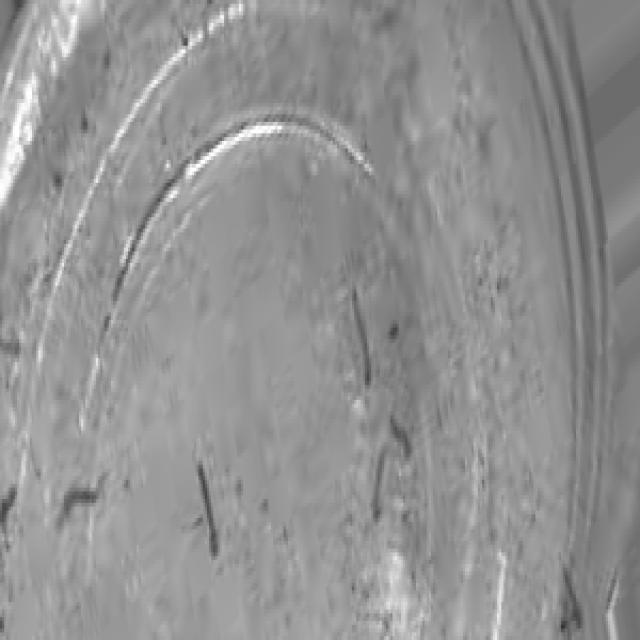larvas: (350, 282, 375, 387), (59, 468, 109, 520), (197, 465, 222, 559), (558, 557, 584, 632), (369, 445, 393, 525), (388, 409, 414, 463), (0, 486, 17, 521), (171, 16, 188, 46), (560, 601, 570, 631)
